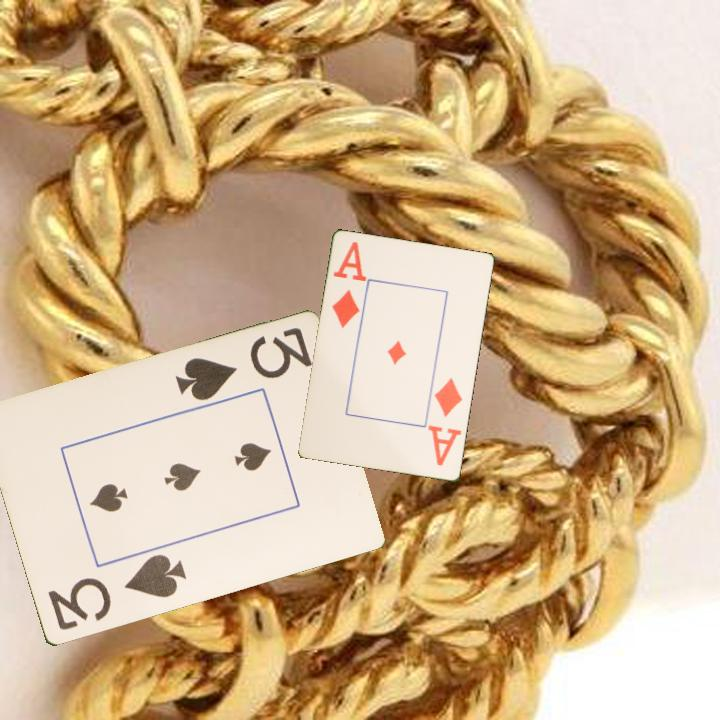3s: (44, 551, 189, 634), (171, 324, 315, 405)
Ad: (425, 374, 466, 469), (329, 238, 368, 332)
